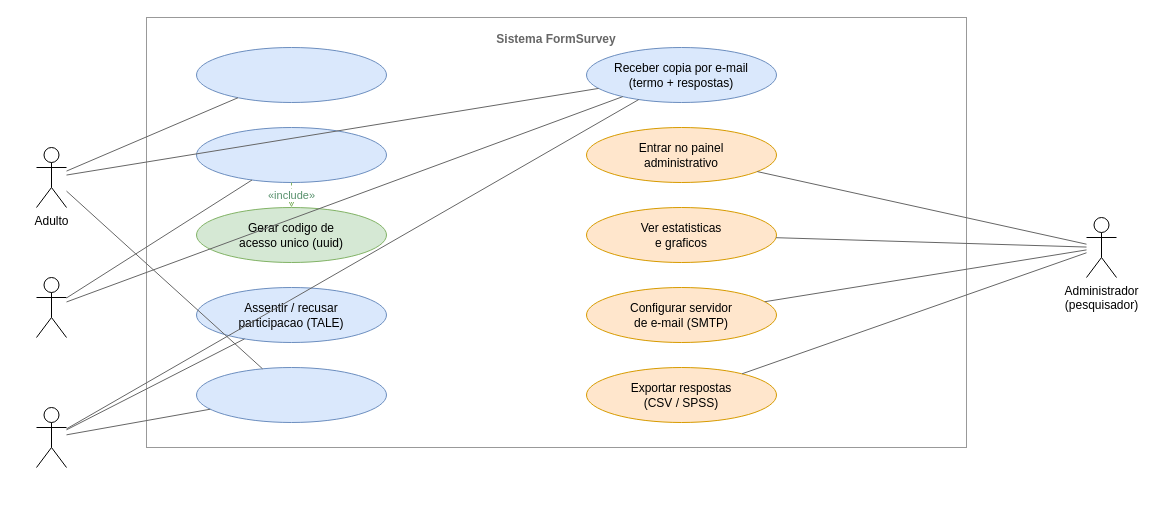
This 1156x506 diagram has some shape labels left out. The shapes that lost their labels are listed below. From the top down, each one's centre as x and y in pixels, then its label:
At (291,74): "Concordar / recusar participacao (RCLE)".
At (291,154): "Autorizar participacao do(a) menor (TCLE)".
At (51,307): "Responsavel".
At (291,394): "Responder questionario (Anexo I)".
At (51,437): "Menor".
